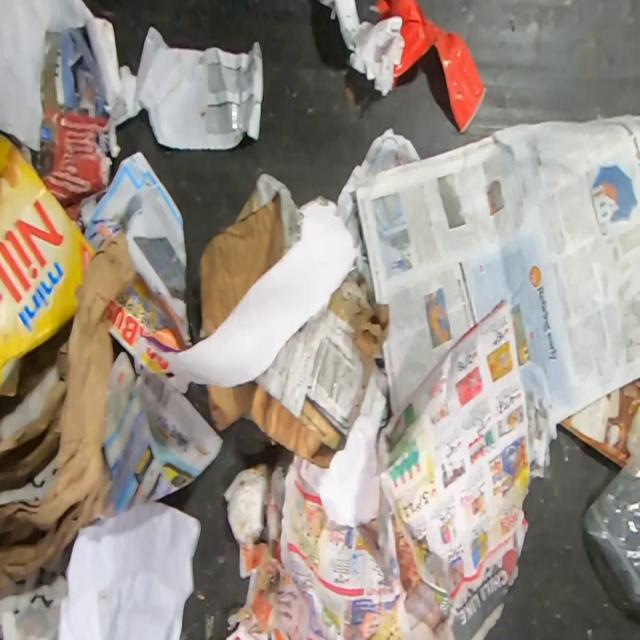cardboard: (134, 194, 363, 394), (206, 263, 391, 469), (0, 129, 97, 397), (197, 175, 297, 342), (558, 376, 640, 467)
rigid_plastic: (368, 0, 489, 136)
soft_plastic: (580, 411, 640, 607)
